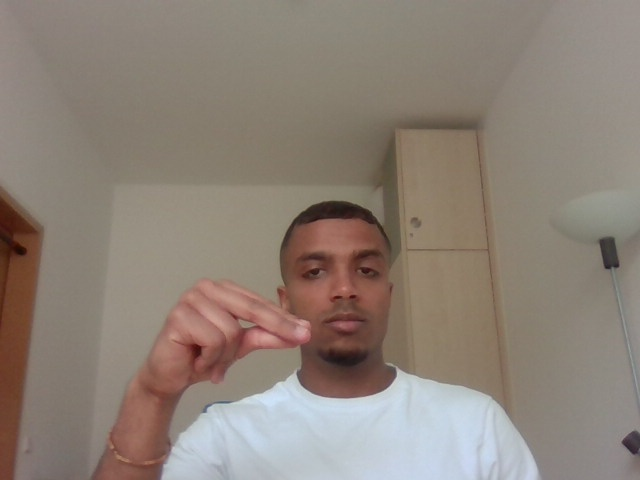no: (122, 256, 322, 405)
